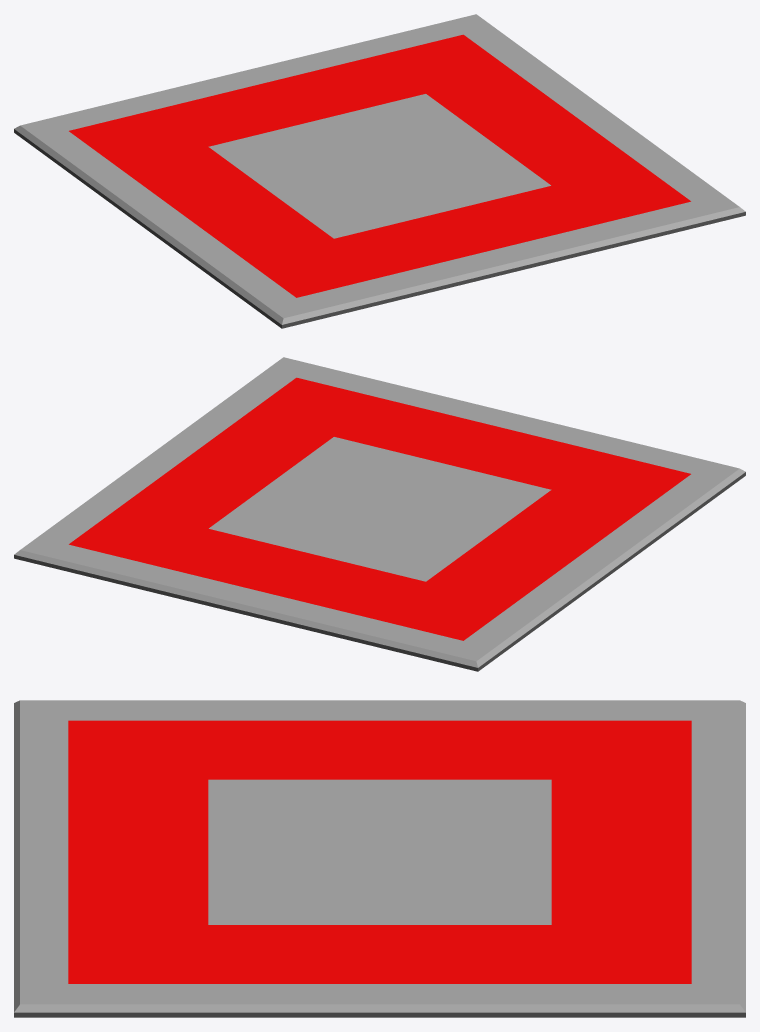
Rendered from Floor.fbx.
The picture shows the model from 3 angles, top to bottom: view 1: azimuth 30°, elevation 25°; view 2: azimuth 150°, elevation 25°; view 3: azimuth 270°, elevation 25°; orthographic projection. The views are drawn at different scales.
Visible parts, largest first — view 1: FloorTile; view 2: FloorTile; view 3: FloorTile.
Part boxes in pixels (x1,y1,x2,y2): FloorTile: (14, 14, 745, 328); FloorTile: (14, 357, 745, 671); FloorTile: (14, 700, 745, 1017).
Bounding box in the file's own units: 100 × 1.62 × 100.
